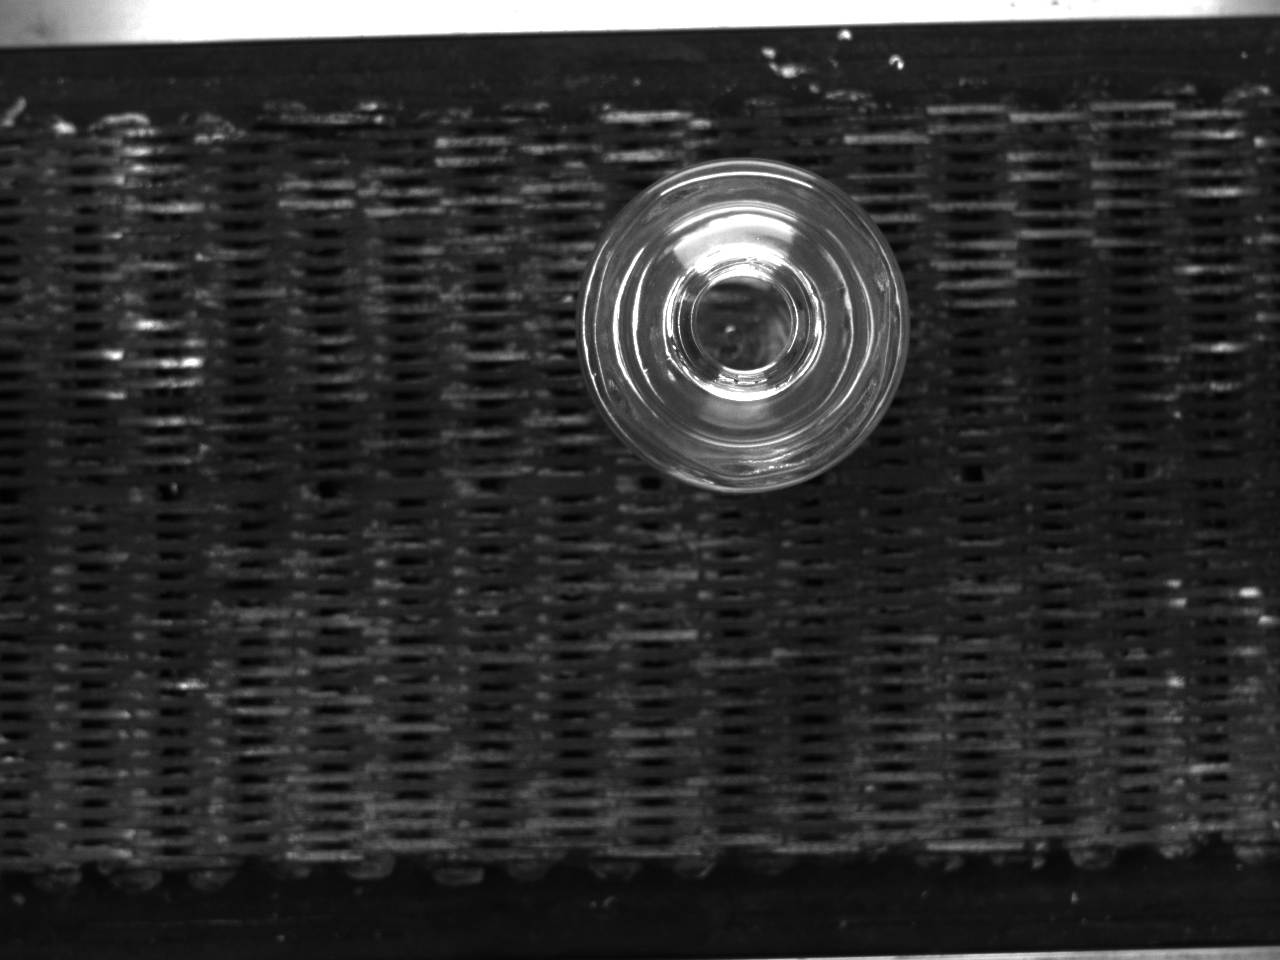bottleneck: (666, 244, 826, 403)
